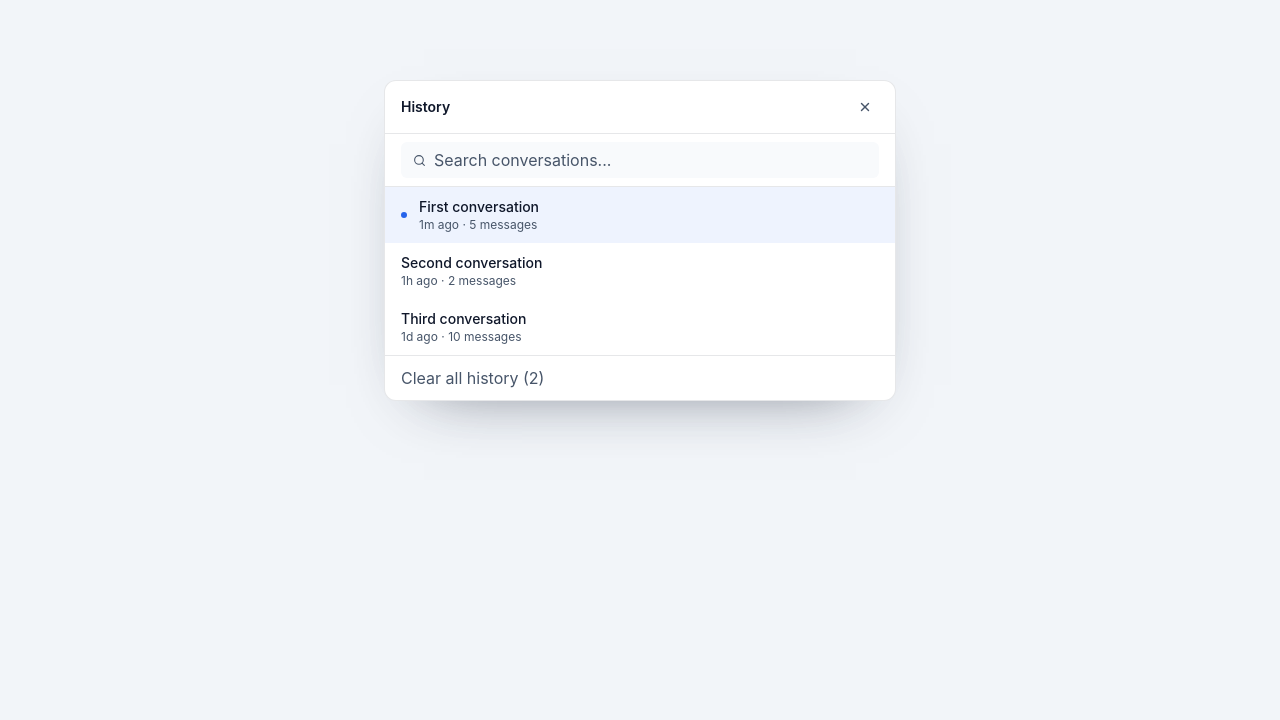
Test: ConversationHistoryModal › filters conversations by search query
Expected: the text "First conversation" is shown, left=419, top=198, right=539, bottom=215
In the field with placeholder "Search conversations...": (650, 160) left=434, top=148, right=867, bottom=172, type "second"
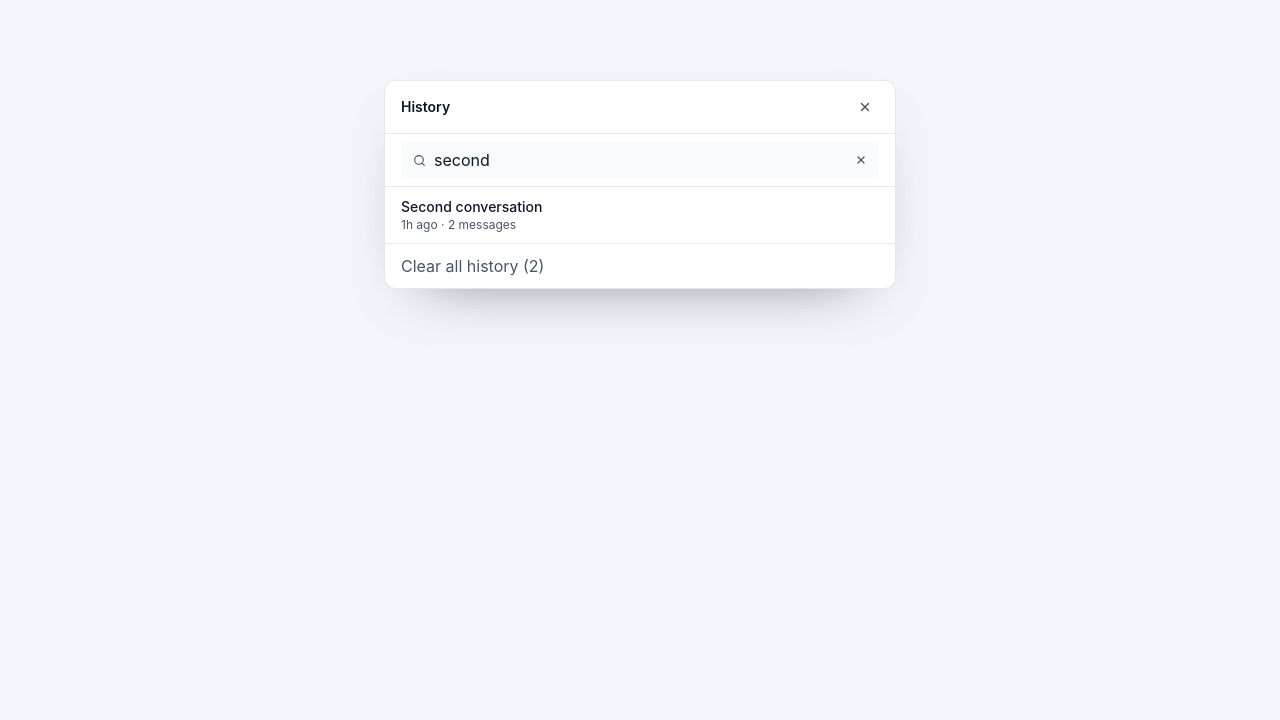
Expected: the text "Second conversation" is shown, left=401, top=198, right=542, bottom=215
Expected: the button "First conversation" is gone
Expected: the button "Third conversation" is gone
